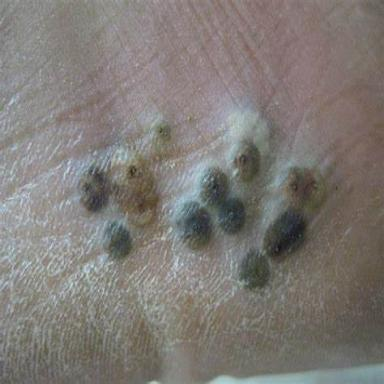Tungiasis: (173, 105, 275, 250), (239, 152, 335, 288), (78, 106, 175, 226), (103, 220, 130, 258)
